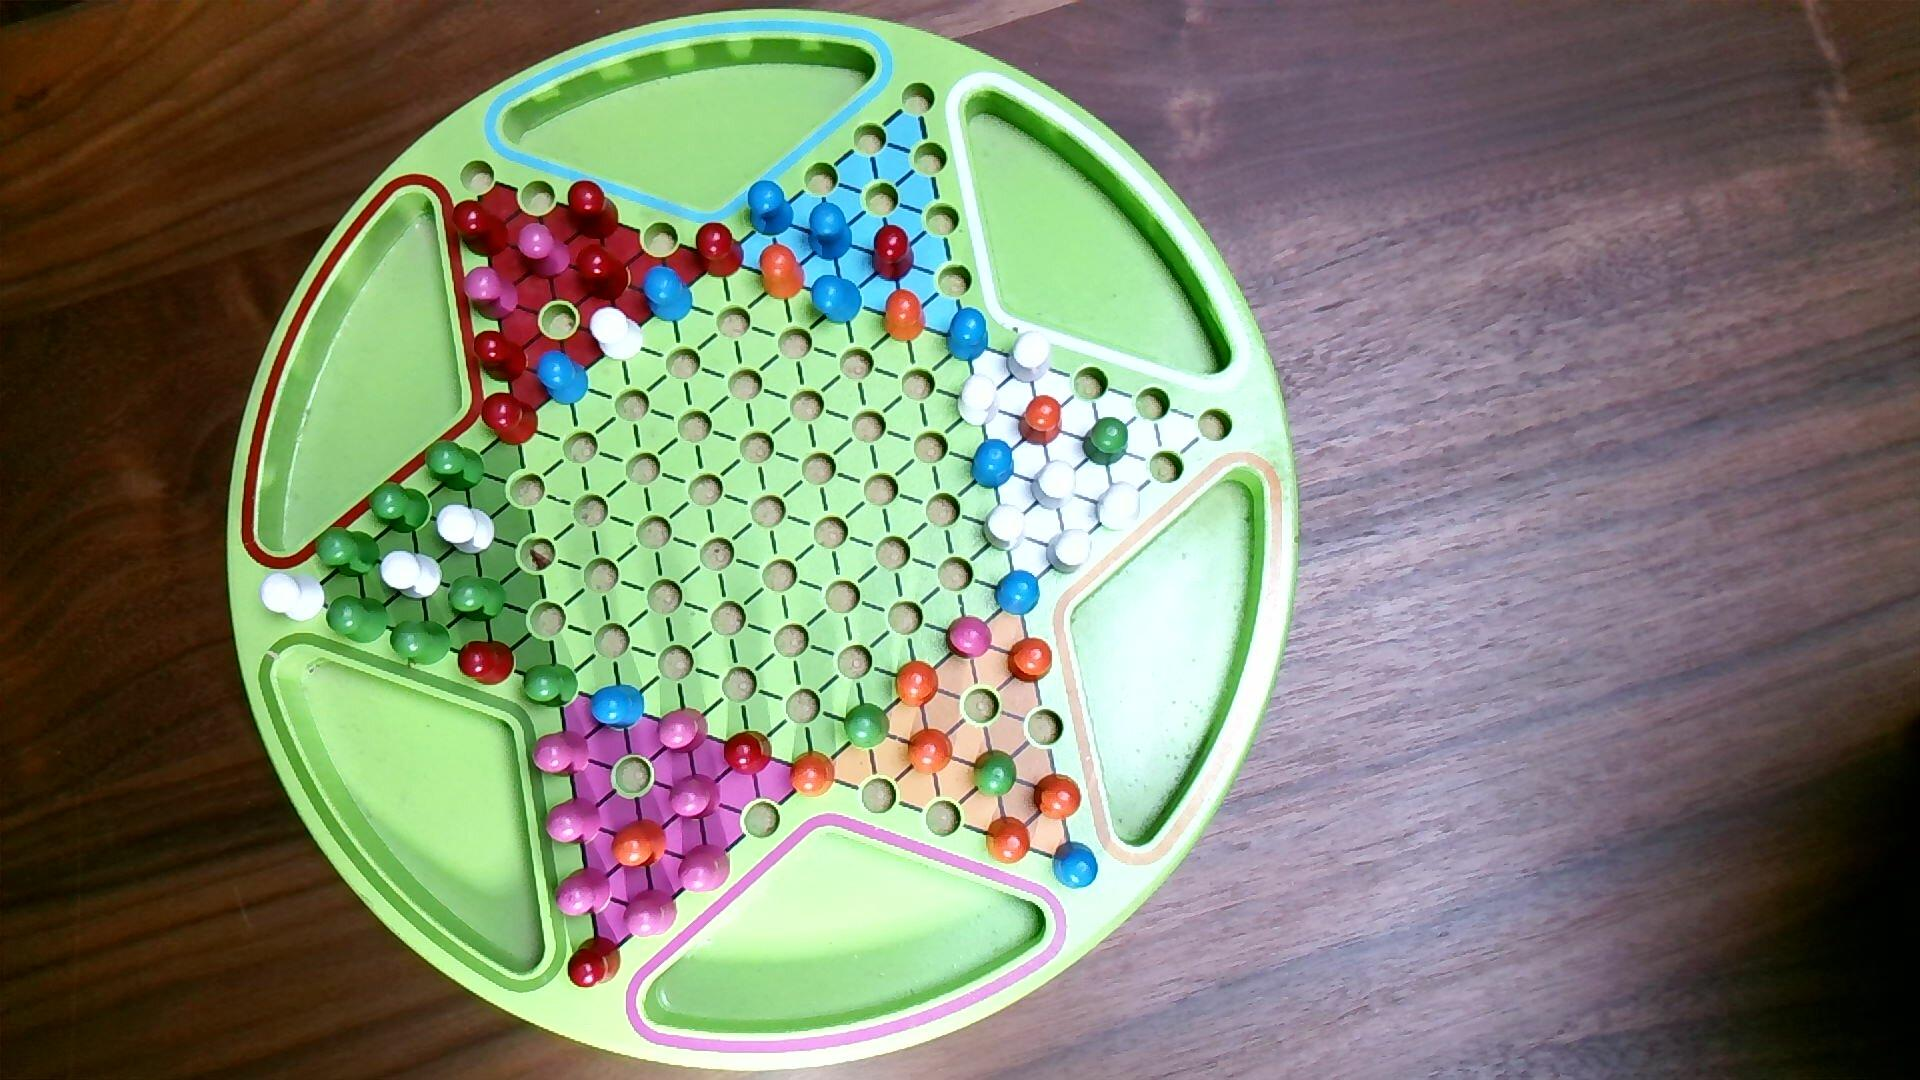B: (534, 349, 591, 407), (642, 264, 695, 324), (806, 200, 855, 264), (745, 179, 796, 239), (808, 273, 865, 326), (589, 683, 647, 733), (944, 306, 992, 364), (1051, 840, 1100, 891), (993, 568, 1042, 618), (969, 438, 1015, 491)
G: (313, 524, 382, 580), (367, 480, 433, 535), (324, 593, 392, 646), (423, 439, 487, 495), (447, 574, 508, 625), (390, 620, 454, 669), (522, 662, 582, 709), (1081, 415, 1131, 468), (972, 748, 1019, 800), (843, 703, 891, 752)
O: (611, 818, 670, 872), (758, 243, 808, 302), (1015, 393, 1065, 448), (881, 287, 928, 345), (1033, 771, 1084, 823), (905, 727, 957, 777), (1005, 636, 1055, 687), (982, 815, 1033, 866), (789, 749, 837, 800), (894, 659, 942, 709)
R: (574, 243, 633, 303), (452, 199, 512, 260), (566, 179, 622, 243), (480, 392, 541, 448), (566, 935, 624, 992), (473, 328, 530, 384), (694, 220, 746, 280), (458, 640, 517, 688), (870, 224, 916, 284), (723, 729, 775, 778)
R2: (462, 265, 521, 324), (514, 222, 574, 280), (529, 729, 593, 781), (620, 886, 680, 940), (553, 866, 615, 919), (543, 795, 603, 849), (676, 841, 733, 894), (655, 705, 711, 756), (667, 773, 724, 822), (944, 615, 996, 662)
W: (258, 571, 327, 624), (378, 550, 446, 603), (589, 306, 647, 363), (436, 504, 497, 556), (1004, 328, 1054, 386), (1029, 458, 1080, 513), (1095, 480, 1143, 534), (956, 373, 1002, 429), (1044, 527, 1095, 578), (982, 502, 1029, 554)
